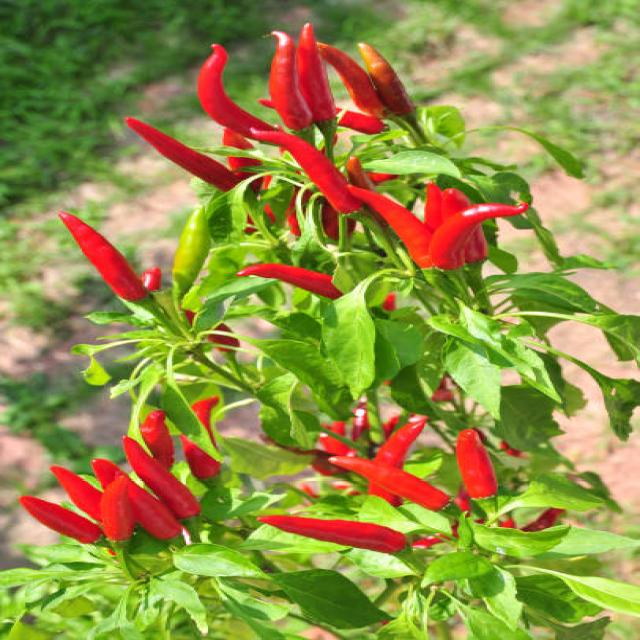Ripe: (243, 129, 366, 215), (126, 118, 246, 191), (58, 212, 147, 300), (197, 44, 271, 136), (340, 181, 430, 250), (329, 456, 446, 509), (125, 437, 199, 518), (259, 516, 408, 553), (318, 44, 385, 119), (429, 210, 517, 267), (238, 264, 344, 301), (359, 43, 413, 115), (20, 497, 101, 543), (273, 40, 311, 130), (300, 23, 334, 122), (126, 477, 180, 539), (456, 429, 497, 500), (375, 416, 426, 467), (52, 466, 99, 521), (102, 473, 134, 540), (142, 411, 173, 467), (339, 110, 383, 134), (91, 459, 123, 490)
